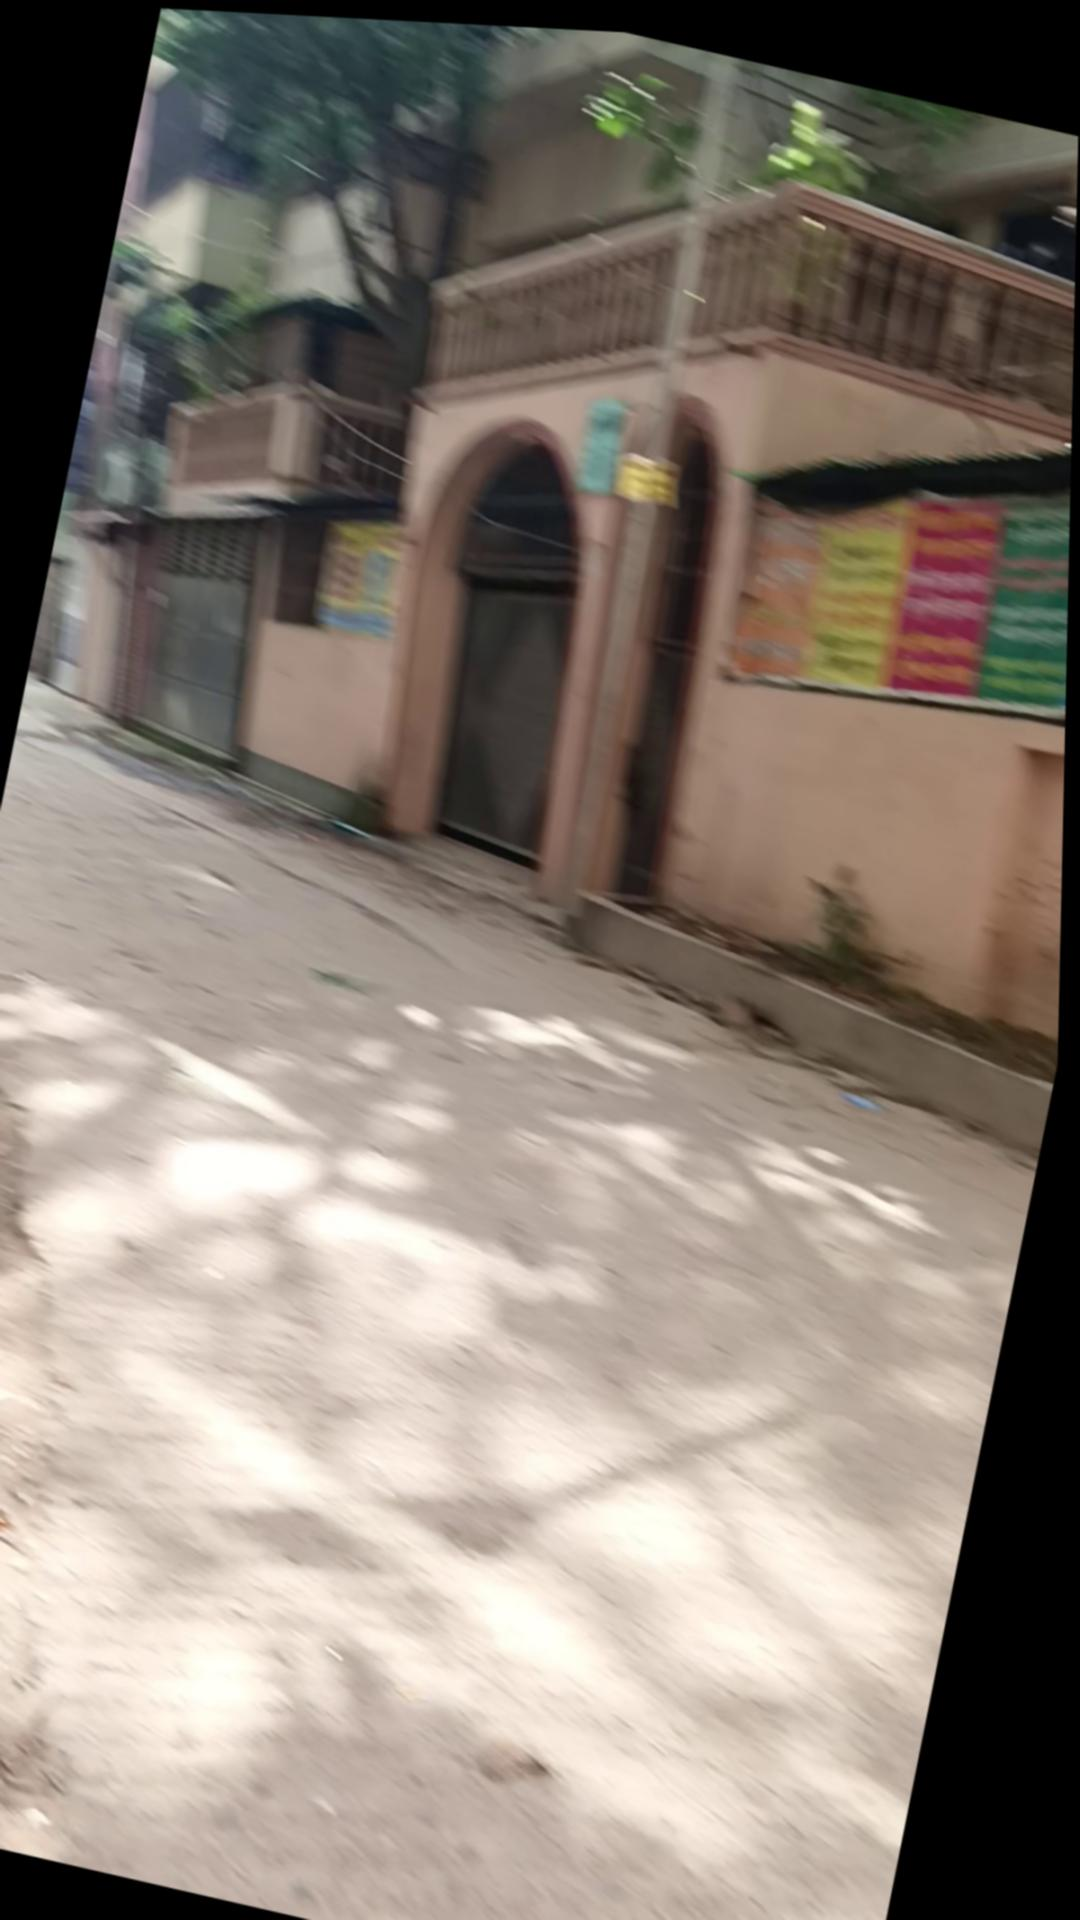Crosswalk: (546, 873, 1065, 1143)
Obstacle: (530, 37, 773, 923)
